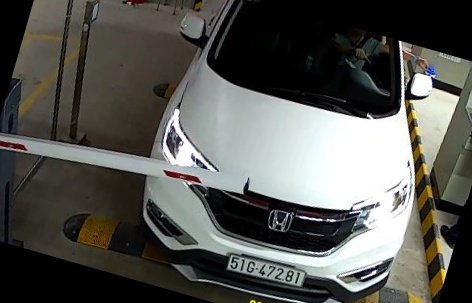plate: (223, 245, 313, 293)
